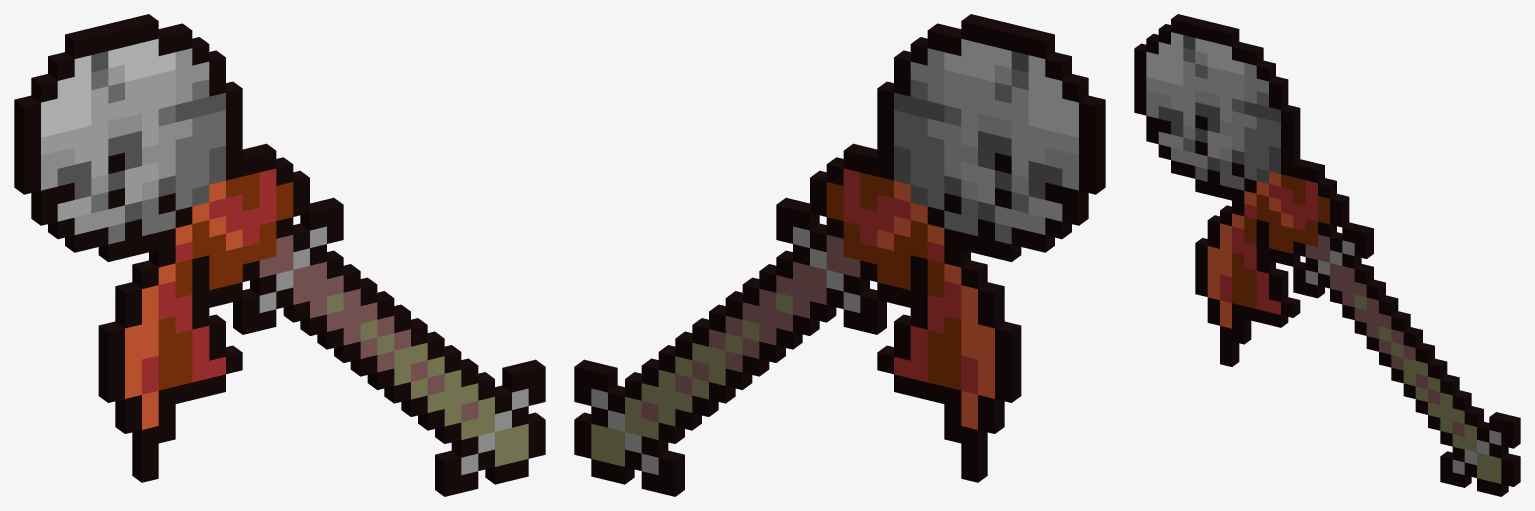
File: W_Mace012.fbx
3 views of the same model, side by side, from view 1: azimuth 30°, elevation 25°; view 2: azimuth 150°, elevation 25°; view 3: azimuth 330°, elevation 25° (orthographic). The views are drawn at different scales.
Visible parts, largest first — view 1: Default; view 2: Default; view 3: Default.
Part boxes in pixels (x1=…): Default: x1=14, y1=14, x2=545, y2=496; Default: x1=574, y1=14, x2=1105, y2=496; Default: x1=1134, y1=14, x2=1520, y2=496.
Bounding box in the file's own units: 31 × 31 × 1.
Materials: 1 (1 with a texture image).
